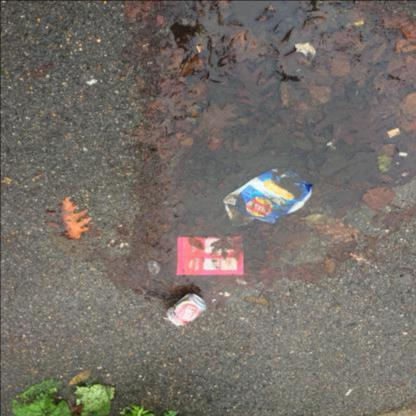Can: (165, 293, 206, 326)
Plastic bag - wrapper: (222, 168, 313, 227), (176, 236, 244, 275)
